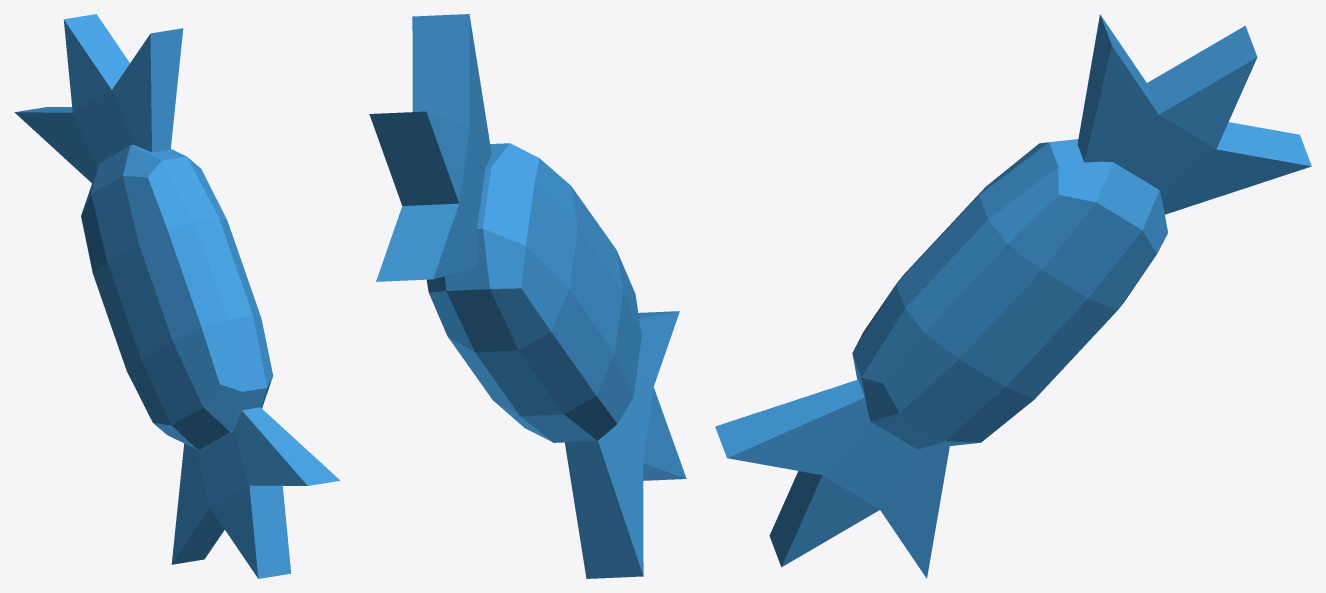
Rendered from candy.fbx.
The picture shows the model from 3 angles, left to right: view 1: azimuth 30°, elevation 25°; view 2: azimuth 150°, elevation 25°; view 3: azimuth 270°, elevation 25°; orthographic projection. The views are drawn at different scales.
Parts seen in each view (by area): view 1: Cube, Curve.001; view 2: Cube, Curve.001; view 3: Cube, Curve.001.
Boxes of the visible parts, <box> form: Cube: <box>81,145,273,450</box>; Curve.001: <box>14,14,340,578</box>; Cube: <box>426,143,641,442</box>; Curve.001: <box>369,14,686,578</box>; Cube: <box>852,139,1167,449</box>; Curve.001: <box>715,14,1311,578</box>.
Size of the model in its own units: 150 by 682 by 642.
